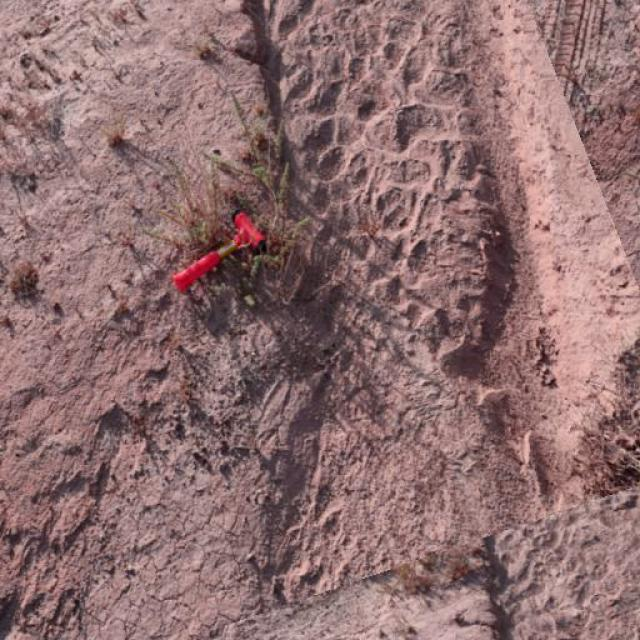mallet: (172, 208, 268, 294)
